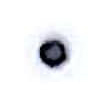cancer: (24, 21, 88, 85)
